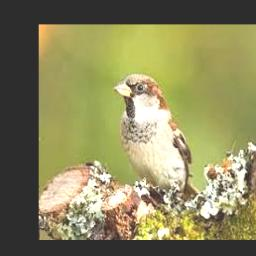Sparrow: (113, 74, 200, 202)
